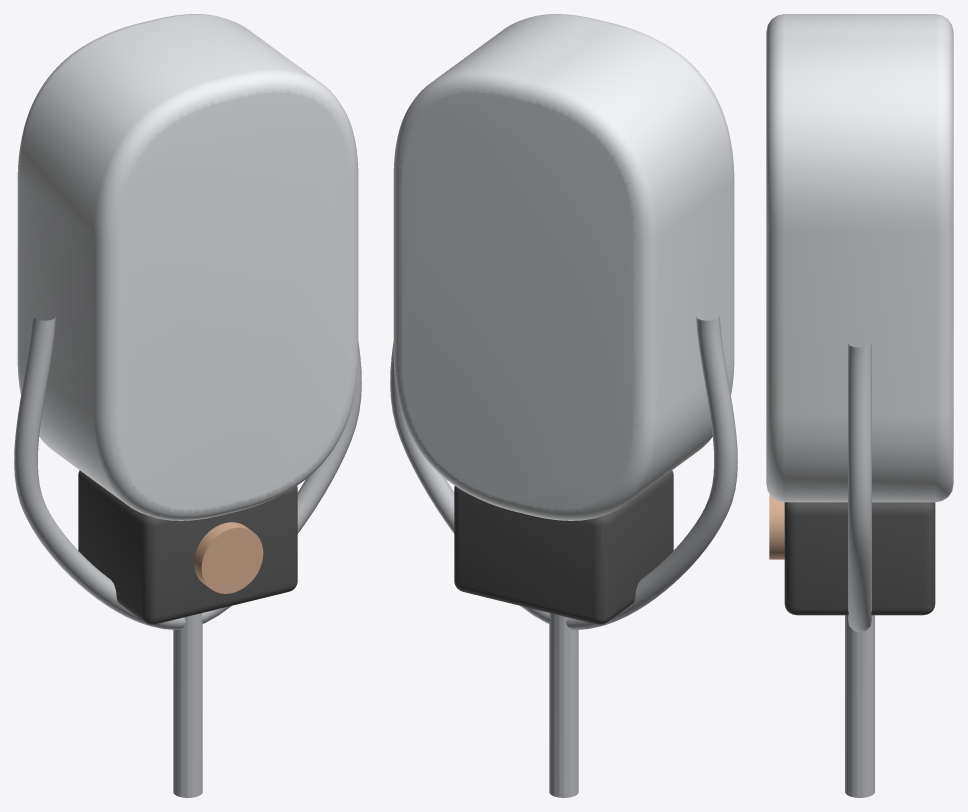
File: ribbon-mic.glb
3 renders of one model, left to right at view 1: azimuth 30°, elevation 25°; view 2: azimuth 150°, elevation 25°; view 3: azimuth 270°, elevation 25°, orthographic.
Visible parts, largest first — view 1: grille, transformer, yoke; view 2: grille, transformer, yoke; view 3: grille, transformer, yoke.
Part boxes in pixels (x1,y1,x2,y2): grille: [17, 14, 358, 520]; transformer: [78, 470, 297, 624]; yoke: [14, 316, 361, 797]; grille: [393, 14, 734, 520]; transformer: [454, 470, 673, 624]; yoke: [390, 316, 737, 797]; grille: [766, 14, 953, 502]; transformer: [769, 494, 935, 615]; yoke: [845, 344, 874, 797].
Size of the model in its own units: 1.34 by 2.76 by 0.62.
